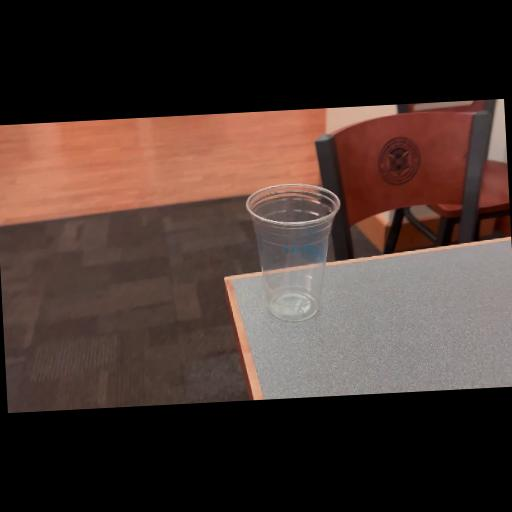lp_plastic_cup: (234, 172, 354, 328)
